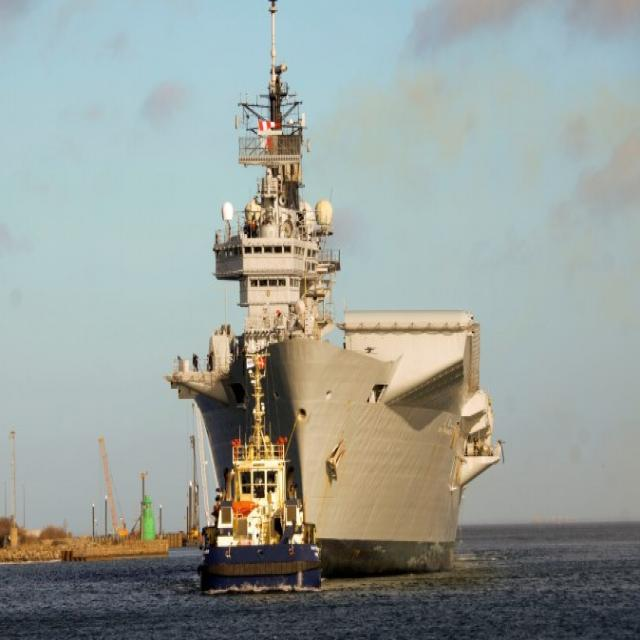Portanaves: (166, 1, 517, 585)
